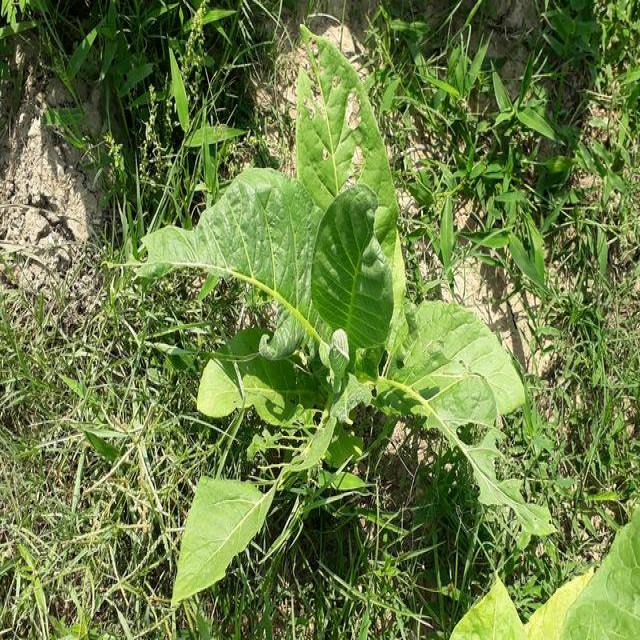crop: (137, 15, 554, 608)
